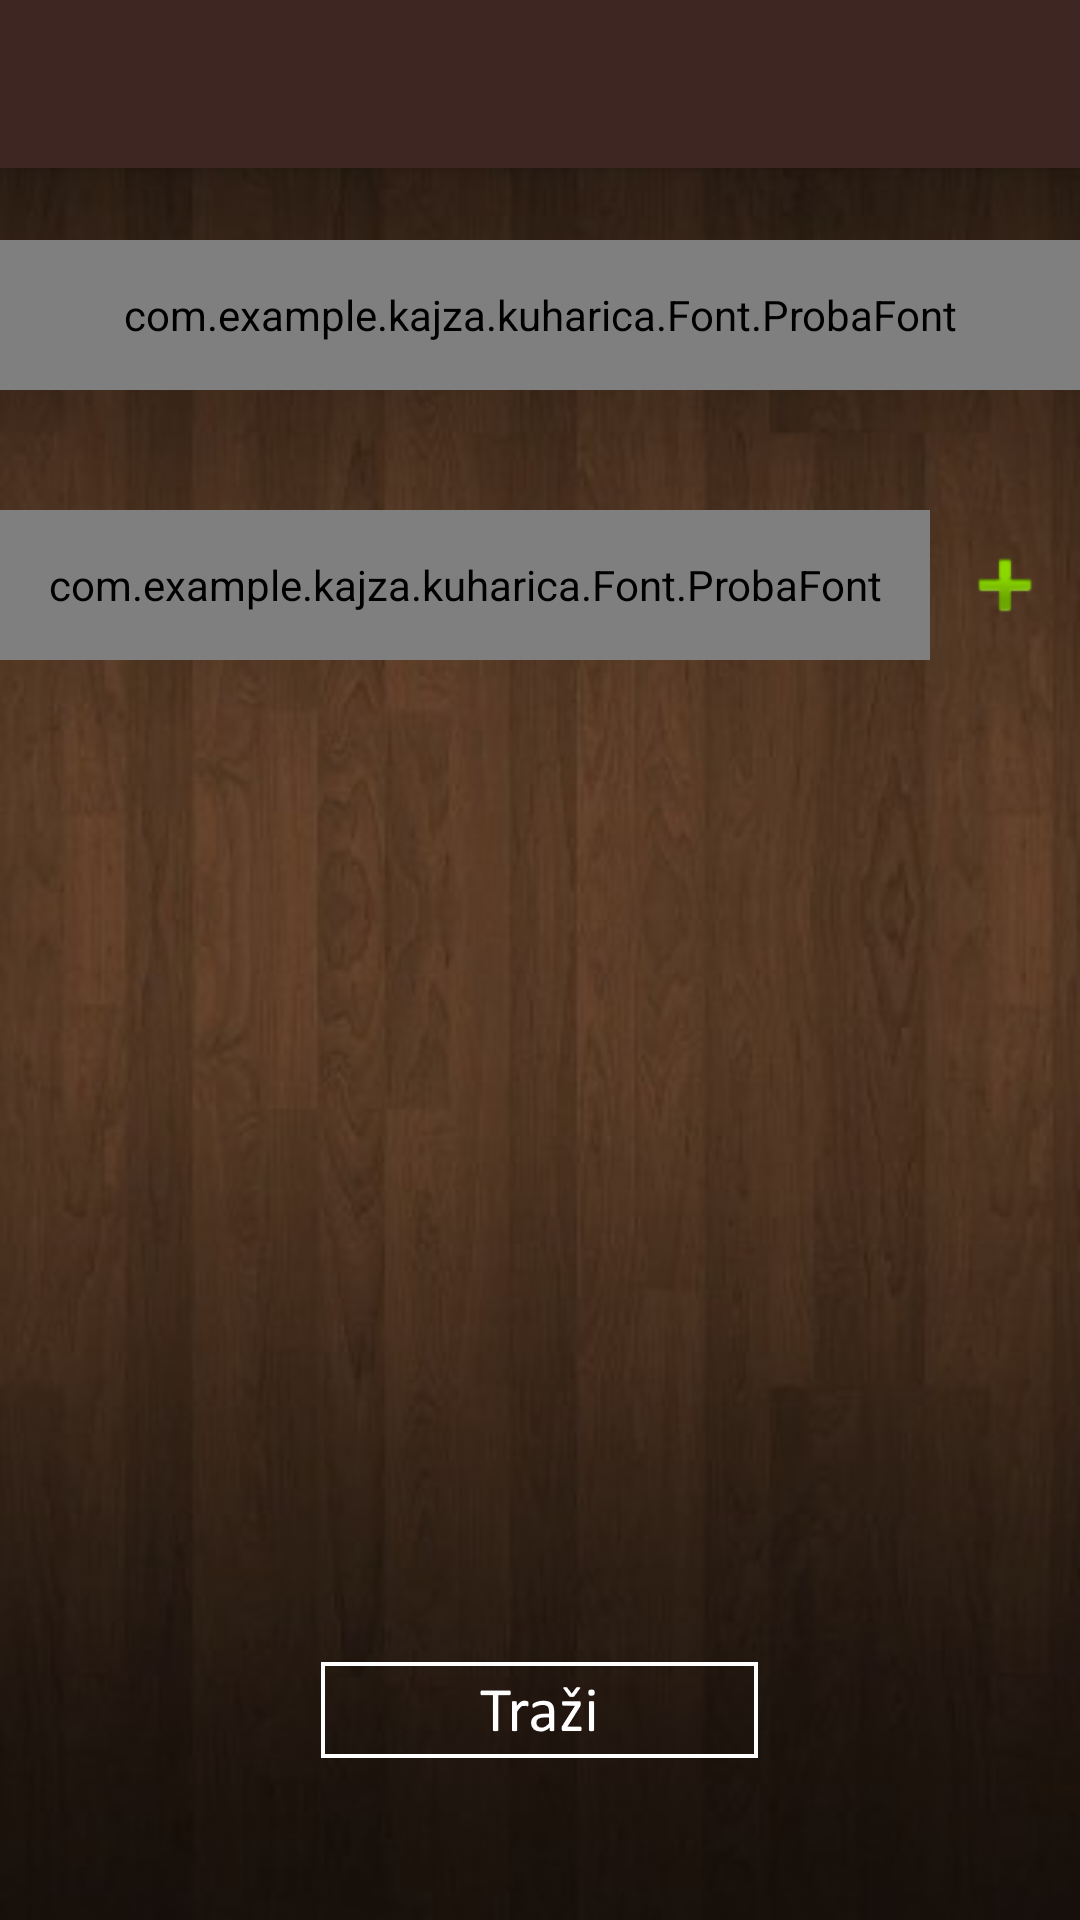

Named icons in this screenshot (1080px x 1920px) and their centers, point (x, y):
add: point (1005, 585)
